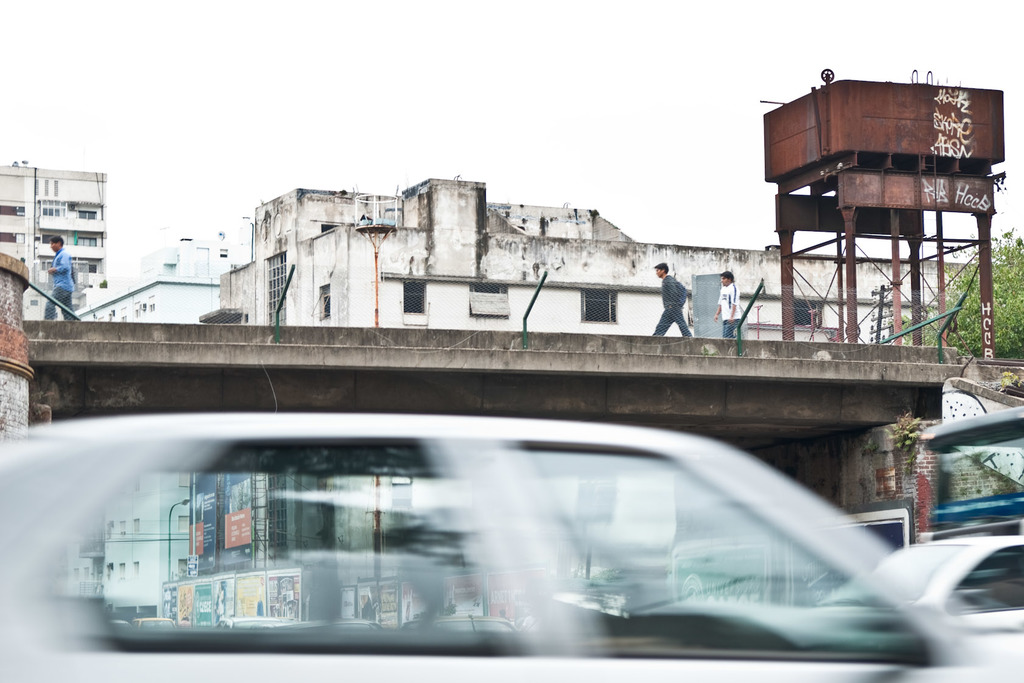Car: (50, 429, 900, 675), (830, 542, 1023, 678)
